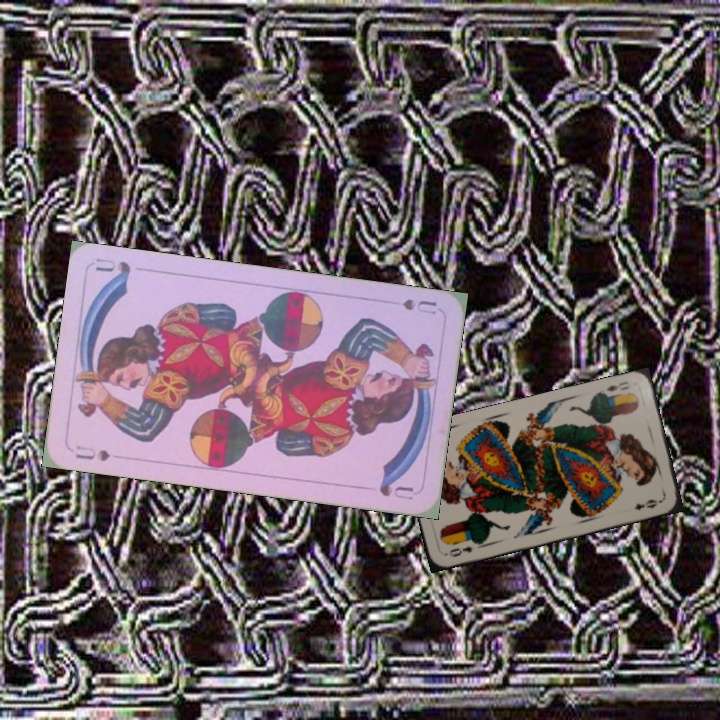EO: (442, 537, 481, 560), (602, 377, 632, 394)
SU: (398, 295, 439, 318), (72, 441, 112, 464)
